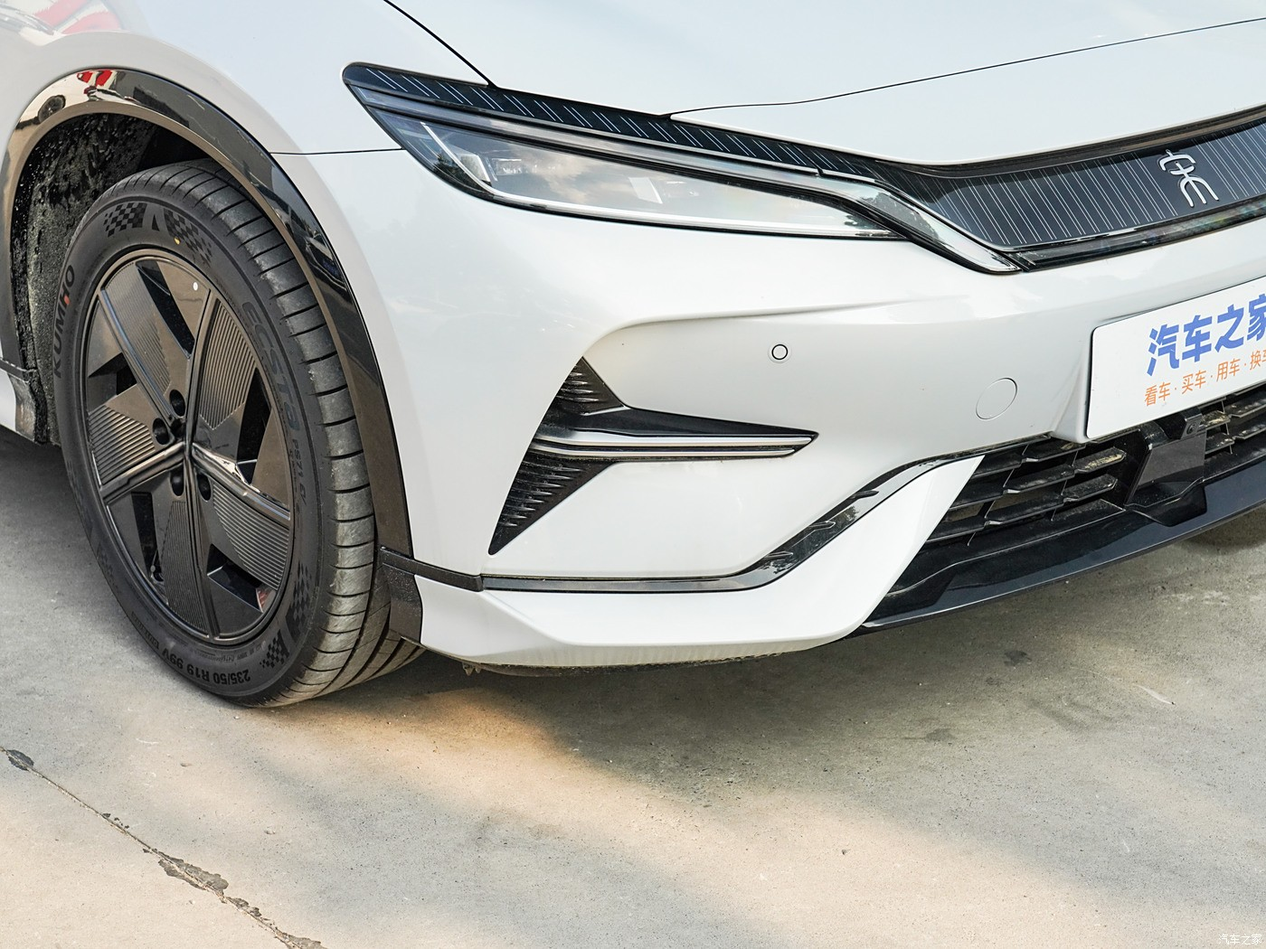BYD Song: (1158, 150, 1220, 207)
